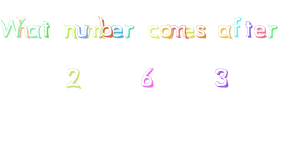2: (65, 68, 83, 89)
3: (213, 67, 230, 88)
6: (140, 67, 155, 88)
W: (1, 17, 21, 38)
a: (27, 23, 42, 40), (217, 24, 232, 39)
b: (98, 14, 113, 39)
c: (147, 24, 160, 38)
e: (254, 24, 267, 39), (183, 23, 195, 39), (111, 24, 123, 39)
f: (231, 17, 242, 38)
h: (16, 15, 30, 39)
m: (169, 23, 187, 39), (86, 23, 102, 39)
n: (64, 23, 77, 38)
o: (159, 24, 172, 38)
r: (124, 24, 134, 39), (268, 24, 277, 39)
s: (195, 23, 207, 40)
t: (42, 20, 51, 38), (244, 20, 253, 38)
u: (76, 24, 89, 38)
